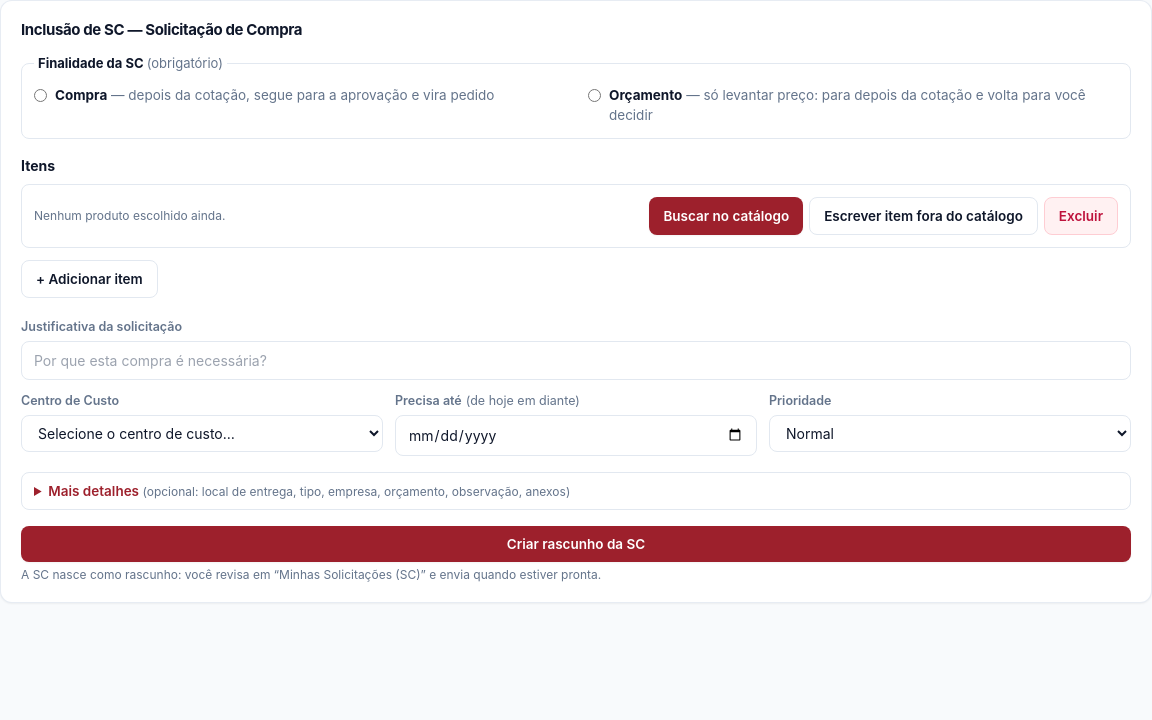
Test: tela Inclusão de SC › pedir o tamanho sem C.A. avisa na linha e barra o envio (IC-ERR-023)
Click the button "Buscar no catálogo". click: (726, 216)
box: x1=649 y1=196 x2=803 y2=235
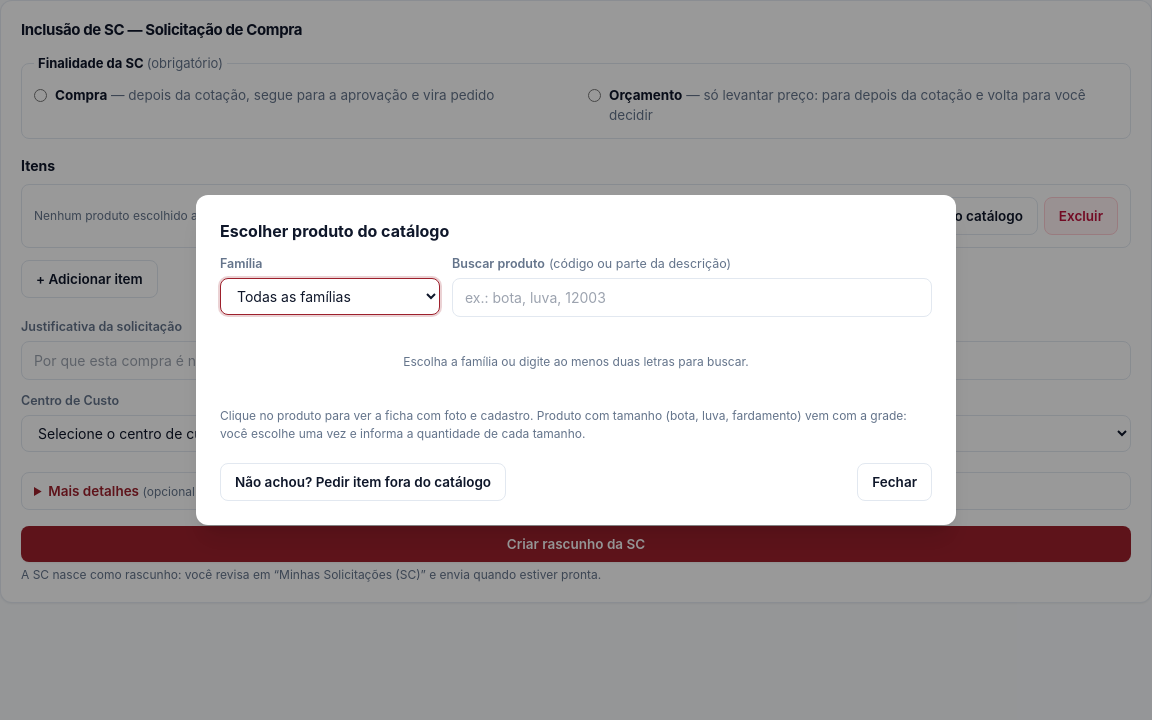
Select "EPI" in the dropdown labelled "Família". click: (330, 296)
box: x1=220 y1=278 x2=440 y2=315
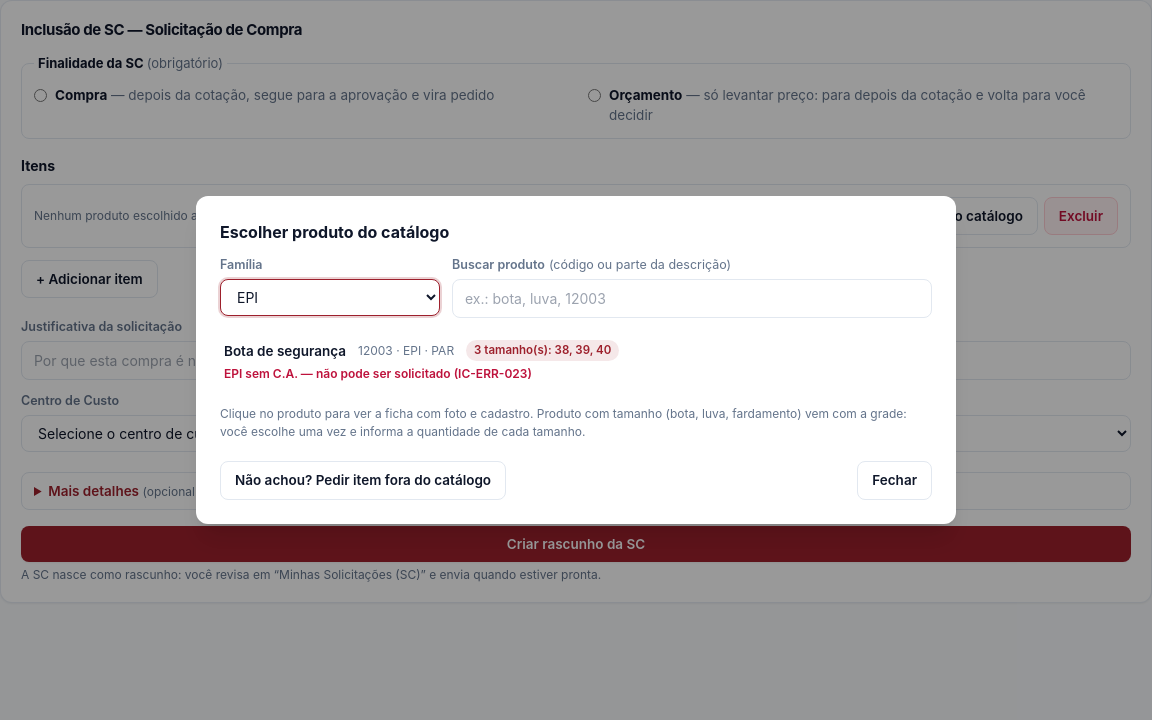
Expected: the button "Bota de segurança" shows "IC-ERR-023"
Click the button "Bota de segurança". click: (576, 362)
box: x1=220 y1=330 x2=932 y2=393
(page scrolled)
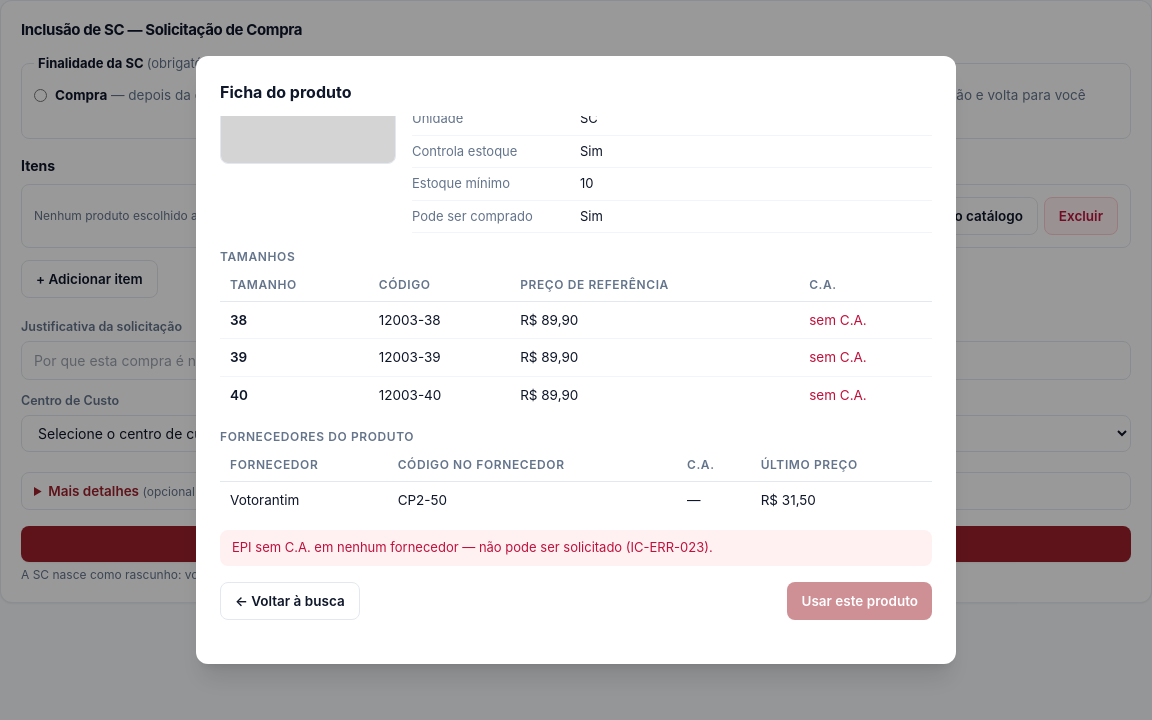
Expected: the button "Usar este produto" is disabled, x1=788 y1=582 x2=932 y2=620
